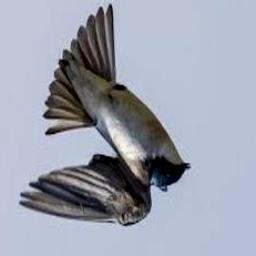Swallow: (19, 6, 191, 226)
